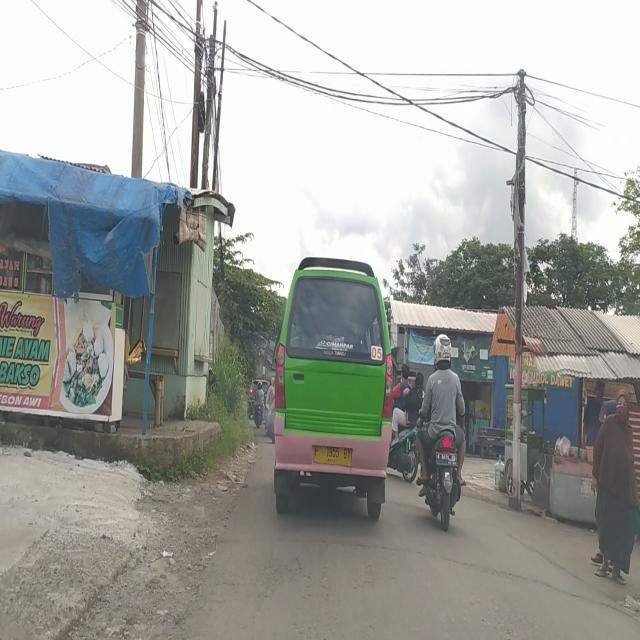Drain Hole: (256, 549, 314, 604)
Sewer Cover: (308, 534, 627, 607)
